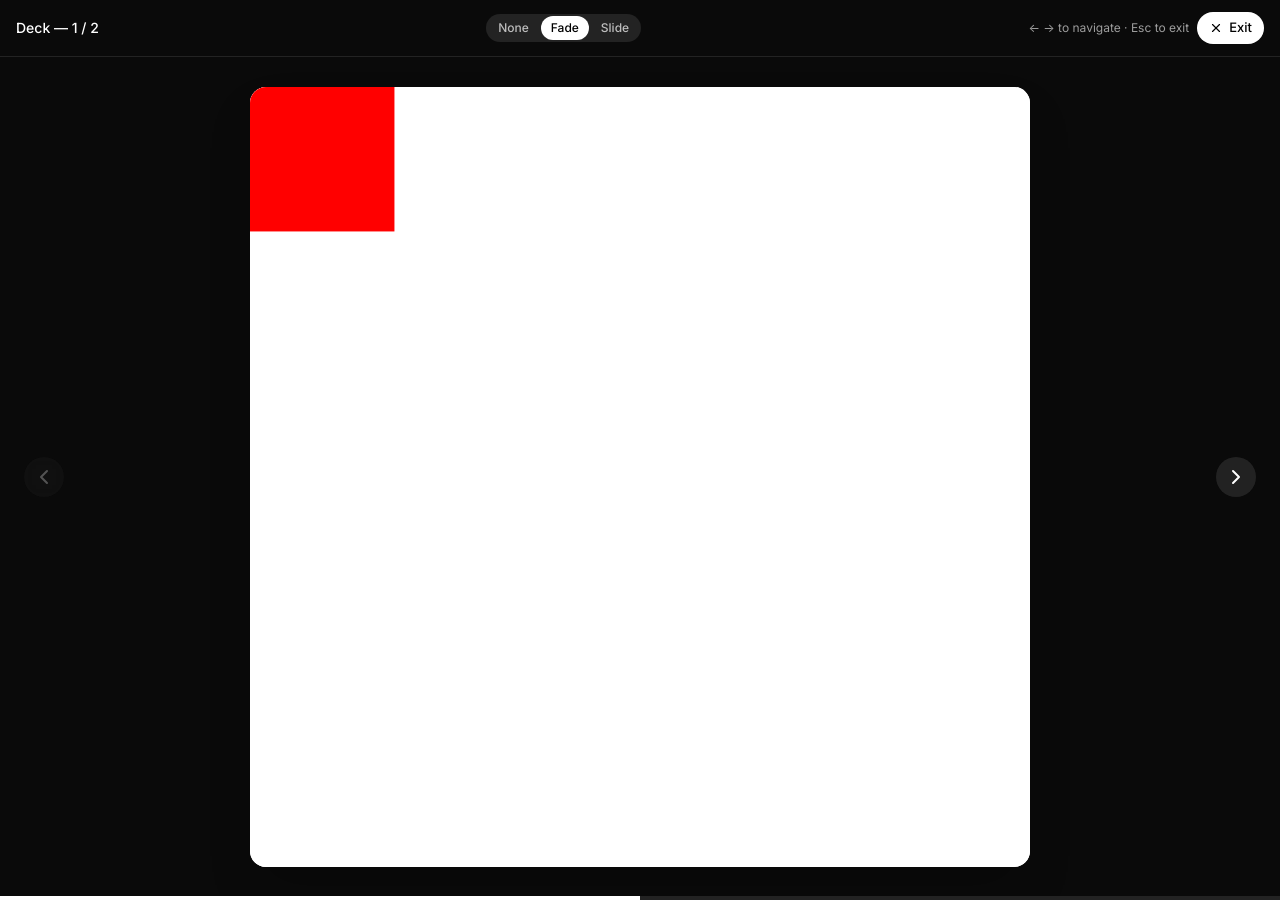
Scenario: present mode › can turn transitions off
This screenshot has width=1280, height=900.
Click the radio button labelled "None": (514, 28) [488,16,539,40]
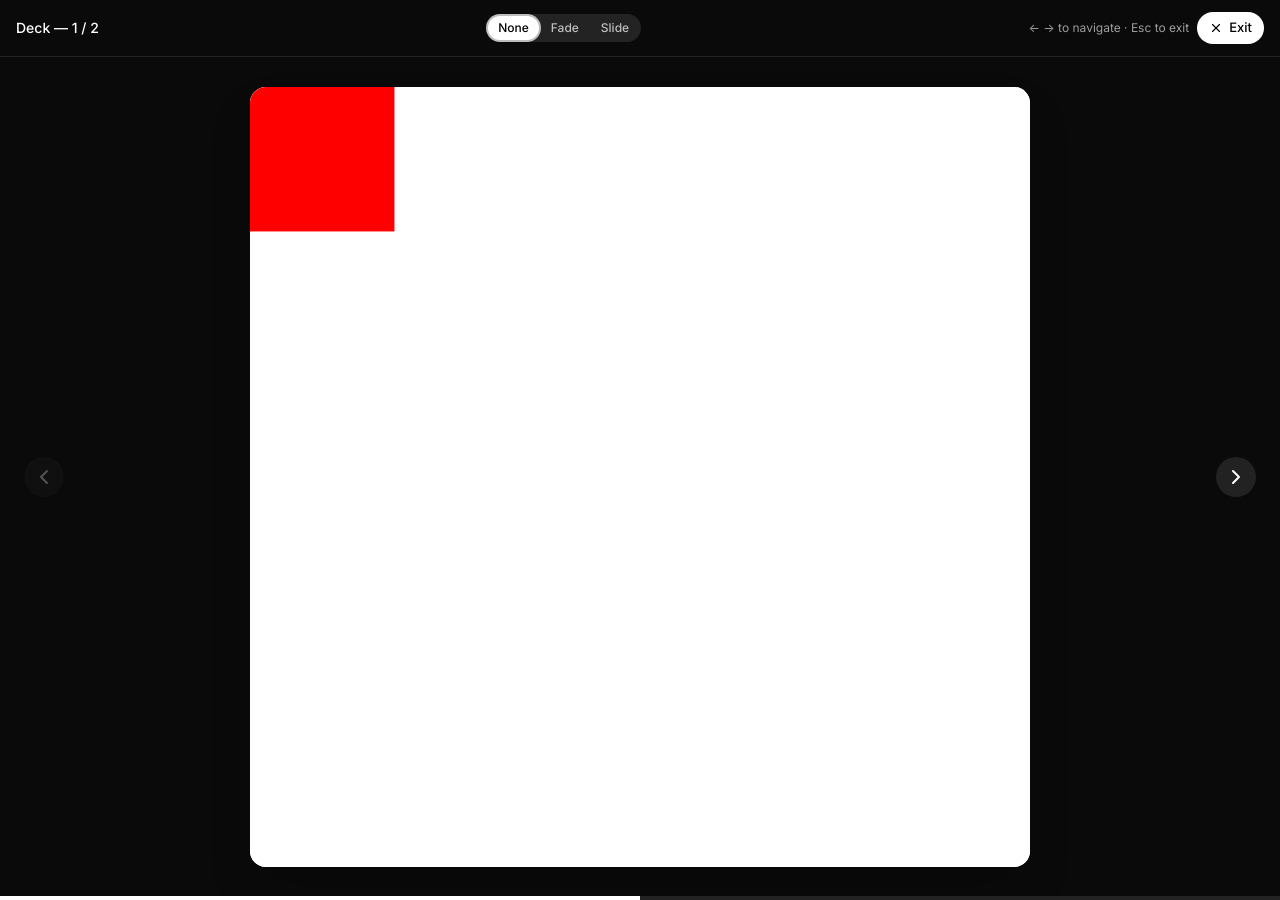
Click the button named "Next page": (1236, 476) [1216,456,1256,496]
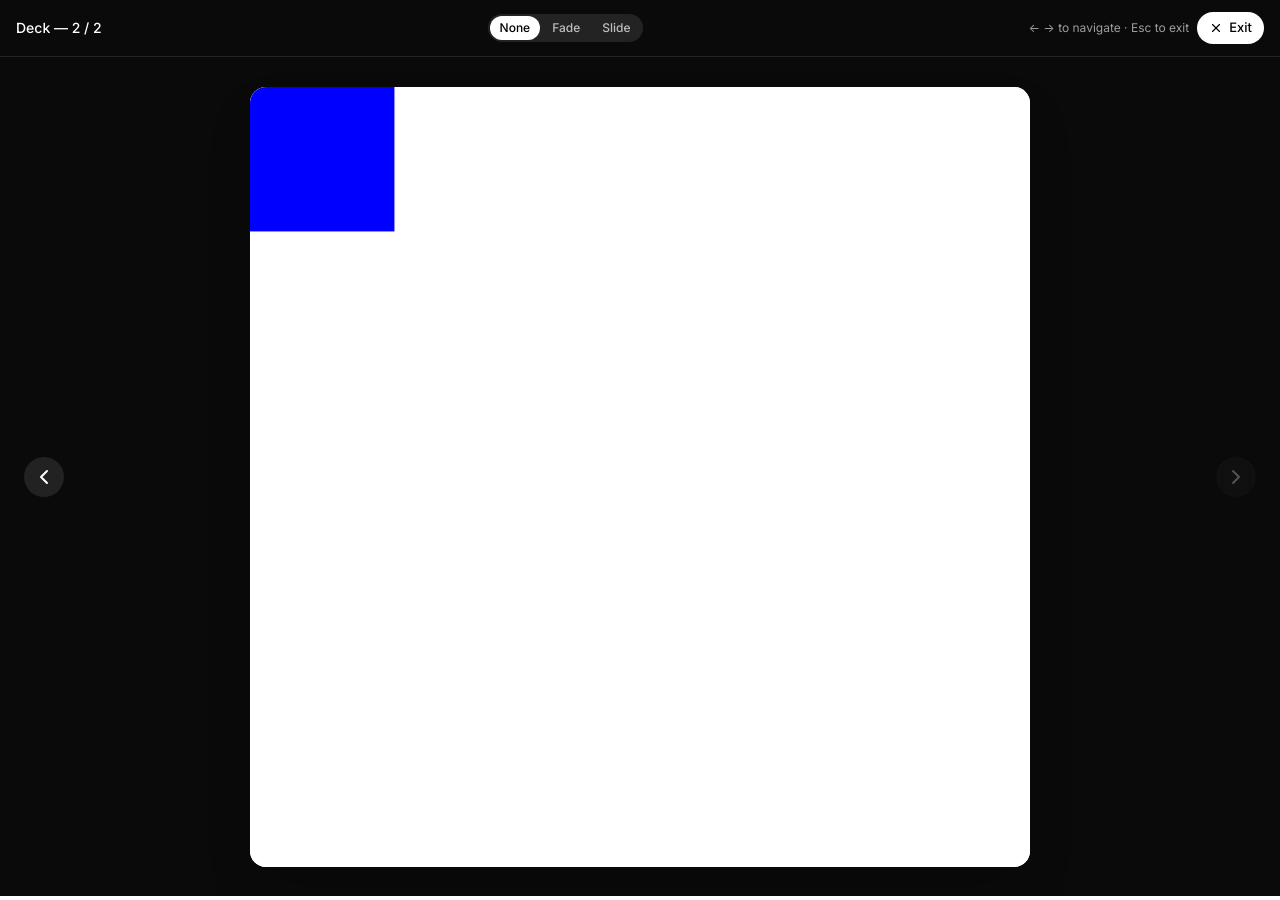
Result: the text "Deck — 2 / 2" is shown at [16,18,102,38]
